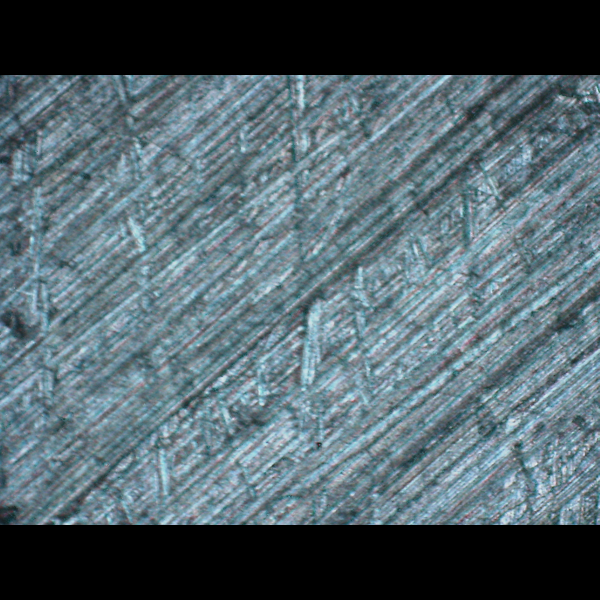d: (280, 257, 382, 416)
